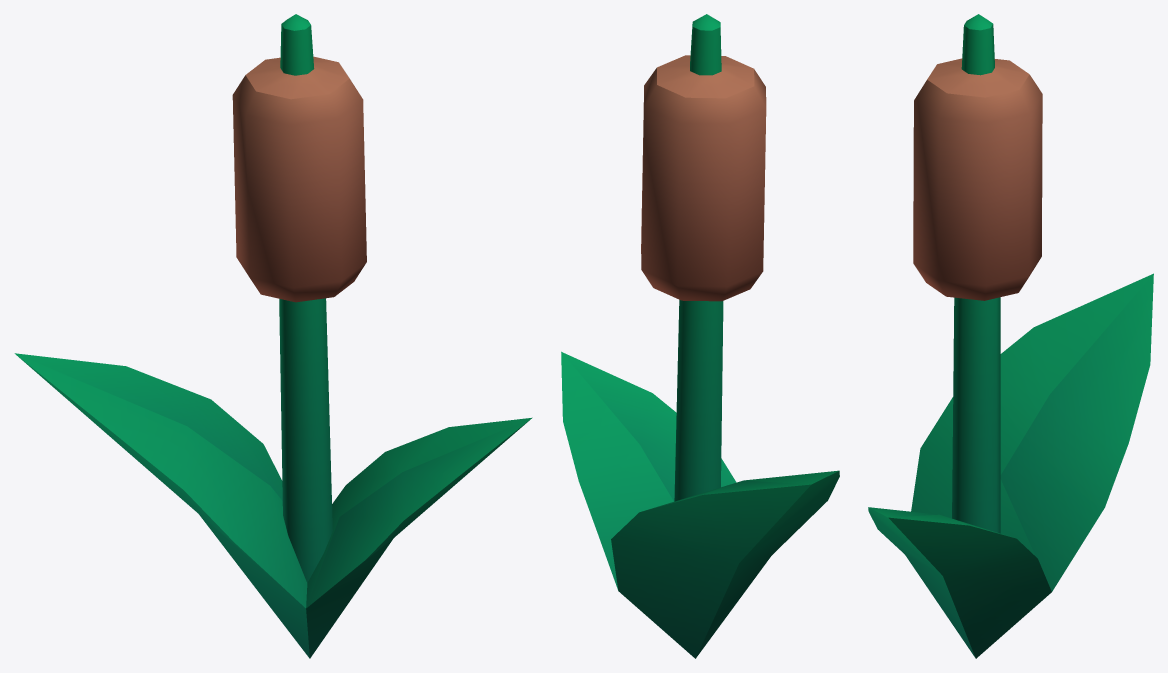
File: waterplant_b.glb
The picture shows the model from 3 angles, left to right: view 1: azimuth 30°, elevation 25°; view 2: azimuth 150°, elevation 25°; view 3: azimuth 270°, elevation 25°; orthographic projection.
Visible parts, largest first — view 1: waterplant_b; view 2: waterplant_b; view 3: waterplant_b.
Boxes of the visible parts, x1=… form: waterplant_b: x1=14, y1=14, x2=532, y2=658; waterplant_b: x1=561, y1=14, x2=839, y2=658; waterplant_b: x1=868, y1=14, x2=1153, y2=658.
Bounding box in the file's own units: 0.079 × 0.1271 × 0.0515.
1 material, 1 textured.
